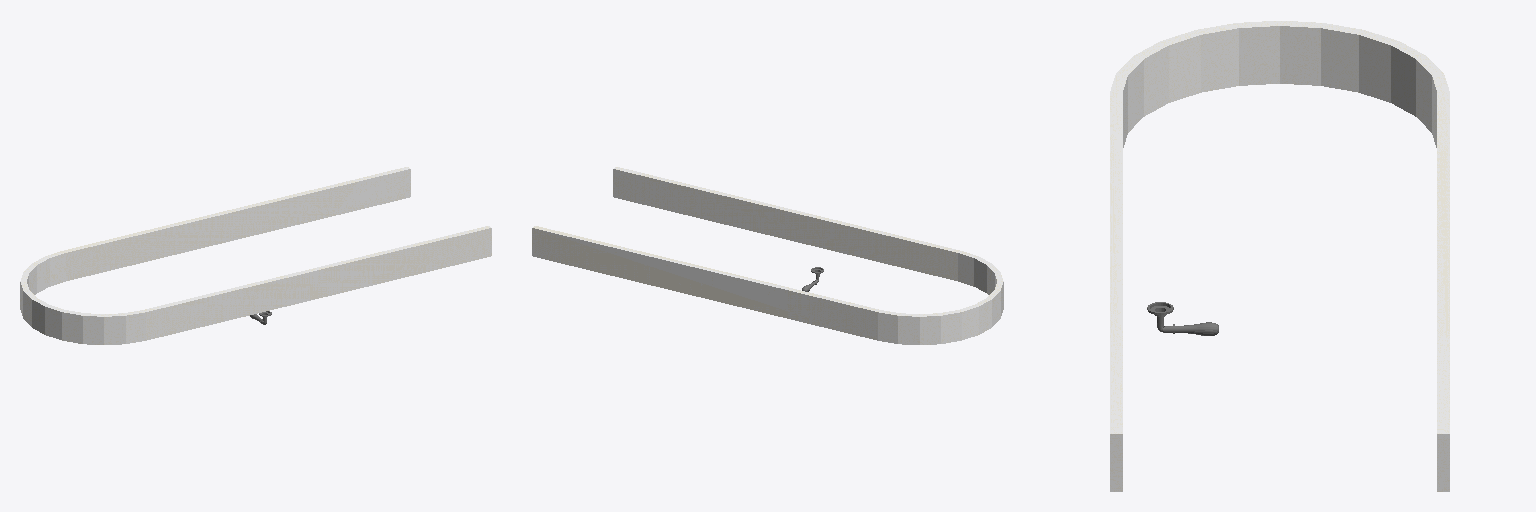
robot.urdf — right-pull-door:
<robot name="right-pull-door">
	<link name="base" />
	<link name="link_0">
		<visual name="out-frame">
			<origin xyz="0 0 0" />
			<geometry>
				<mesh filename="texture_dae/frame.dae" scale="0.8058563763082262 0.8058563763082262 0.8058563763082262" />
			</geometry>
		</visual>
		<collision>
			<origin xyz="0 0 0" />
			<geometry>
				<mesh filename="texture_dae/frame.dae" scale="0.8058563763082262 0.8058563763082262 0.8058563763082262" />
			</geometry>
		</collision>
	</link>
	<joint name="joint_0" type="fixed">
		<origin rpy="1.570796326794897 0 -1.570796326794897" xyz="0 0 0" />
		<child link="link_0" />
		<parent link="base" />
	</joint>
	<link name="link_1">
		<visual name="surf-board">
			<origin xyz="0.28976845039780375 -0.911344515531866 0" />
			<geometry>
				<mesh filename="texture_dae/board.dae" scale="0.8058563763082262 0.8058563763082262 0.8058563763082262" />
			</geometry>
		</visual>
		<collision>
			<origin xyz="0.28976845039780375 -0.911344515531866 0" />
			<geometry>
				<mesh filename="texture_dae/board.dae" scale="0.8058563763082262 0.8058563763082262 0.8058563763082262" />
			</geometry>
		</collision>
	</link>
	<joint name="joint_1" type="revolute">
		<origin xyz="-0.28976845039780375 0.911344515531866 0" />
		<axis xyz="0 -1 0" />
		<child link="link_1" />
		<parent link="link_0" />
		<limit lower="0" upper="1.5079644737231006" />
	</joint>
	<link name="link_2">
		<visual name="handle">
			<origin xyz="0 0 0" />
			<geometry>
				<mesh filename="texture_dae/9960024.dae" scale="0.9205565121456872 0.9205565121456872 0.9205565121456872" />
			</geometry>
		</visual>
		<collision>
			<origin xyz="0 0 0" />
			<geometry>
				<mesh filename="texture_dae/9960024.dae" scale="0.9205565121456872 0.9205565121456872 0.9205565121456872" />
			</geometry>
		</collision>
	</link>
	<joint name="joint_2" type="revolute">
		<origin xyz="0.5163335461102969 -1.0290850593231289 0.023484701758352815" />
		<child link="link_2" />
		<parent link="link_1" />
		<axis xyz="0 0 1" />
		<limit lower="0" upper="0" />
	</joint>
</robot>

--- What the picture shows (computed from the rendered views, not written in the file) ---
3 views of the same robot in one strip: view 1: azimuth 30°, elevation 25°; view 2: azimuth 150°, elevation 25°; view 3: azimuth 270°, elevation 25° (orthographic).
Robot: right-pull-door — 4 links, 3 joints (2 revolute, 1 fixed); root link base; default pose: all joints at 0.
Visible links, largest first — view 1: link_0; view 2: link_0; view 3: link_0, link_2.
Link boxes in pixels (x1,y1,x2,y2): link_0: [20, 167, 491, 344]; link_0: [532, 167, 1003, 344]; link_0: [1110, 21, 1449, 491]; link_2: [1147, 302, 1218, 335].
Size in the robot's own frame: 1.85 by 0.6447 by 0.2375 metres.
2 mesh visuals loaded from 3 distinct referenced files (2 Collada DAE); not drawn: 1 (reference not matched to a file when rendering).
